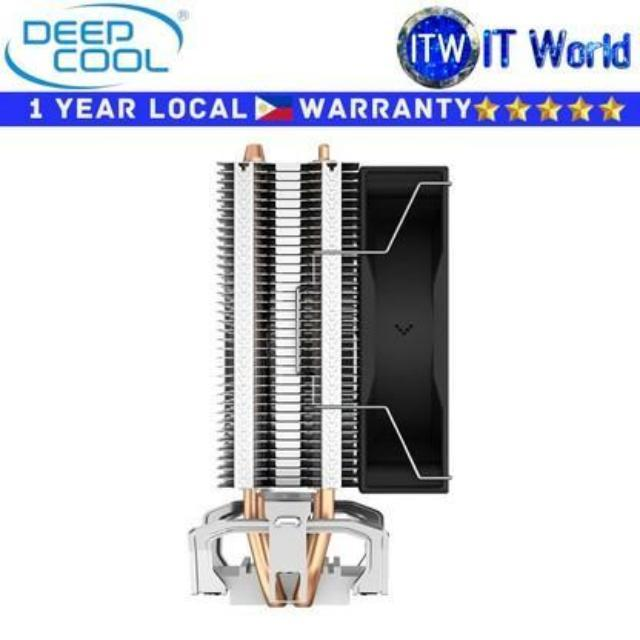CPU_Fan: (183, 134, 460, 617)
